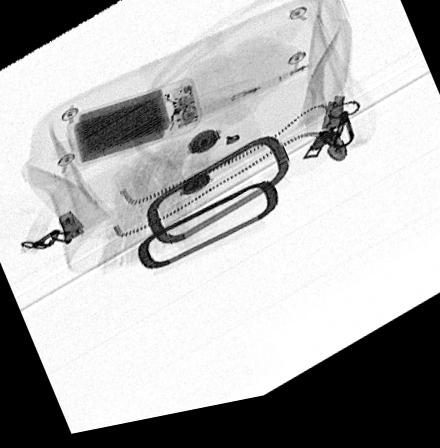Powerbank: (62, 82, 203, 169)
